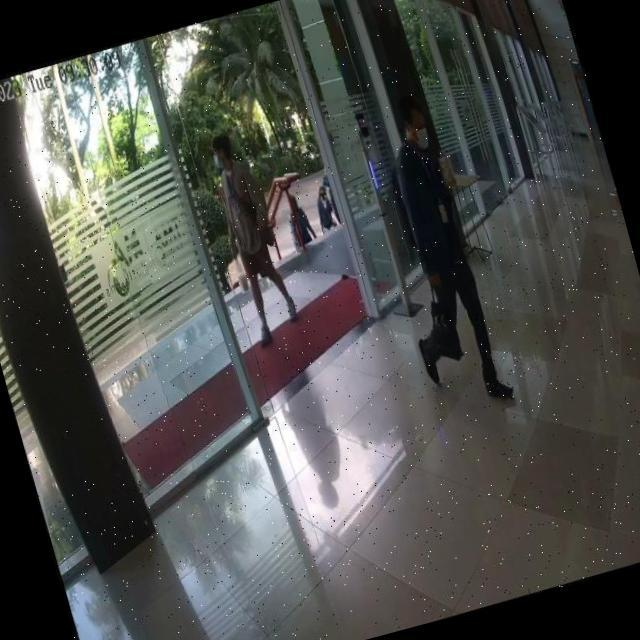person: (356, 96, 514, 410), (203, 127, 302, 343)
